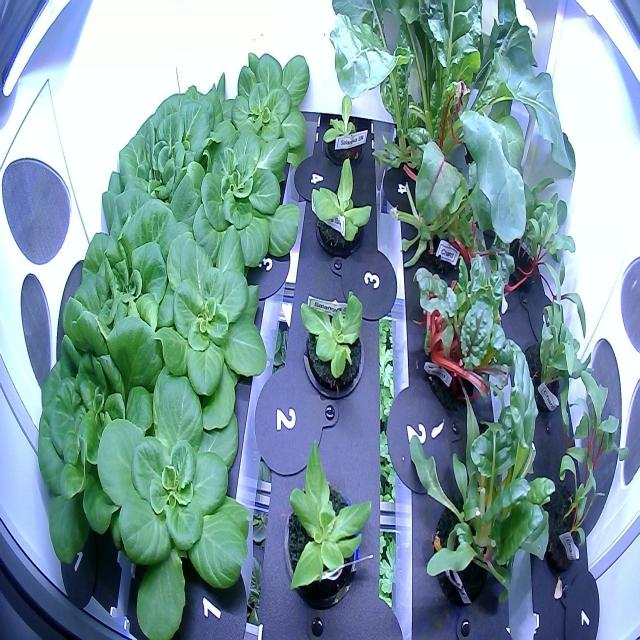Ready: (32, 313, 172, 571), (56, 178, 194, 396), (112, 62, 234, 231)
young: (87, 366, 259, 640), (139, 208, 272, 438), (176, 120, 306, 287), (275, 430, 382, 612), (212, 29, 315, 172), (291, 278, 372, 408), (306, 155, 376, 264), (318, 81, 374, 168)
